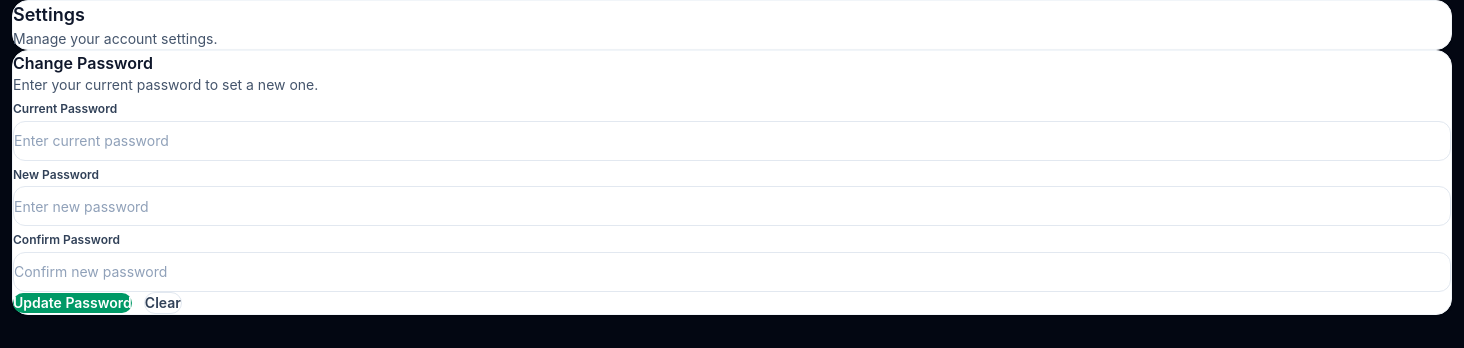
it: SettingsPage › validates new password differs from current
In the password field labelled "Current Password": (732, 141) [13, 121, 1451, 161], type "samepass"
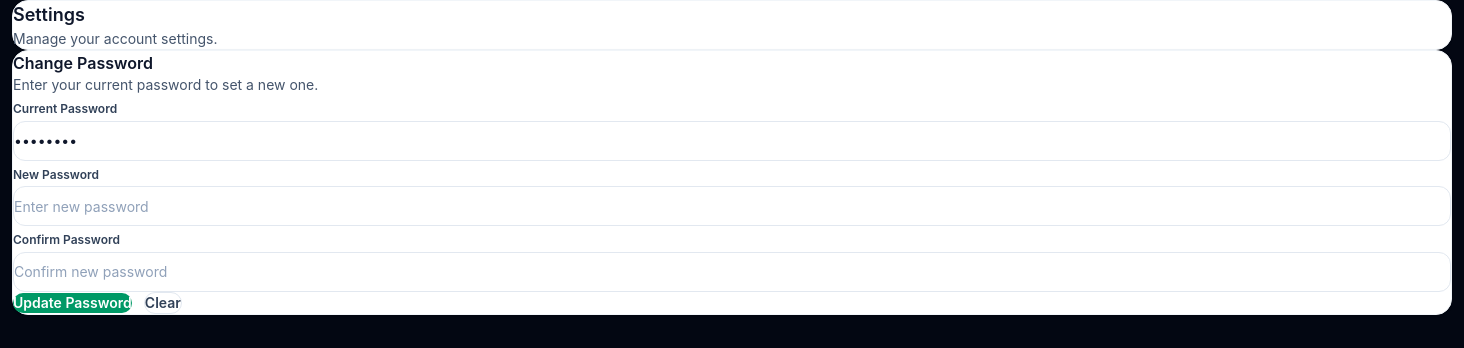
In the password field labelled "New Password": (732, 206) [13, 186, 1451, 226], type "samepass"
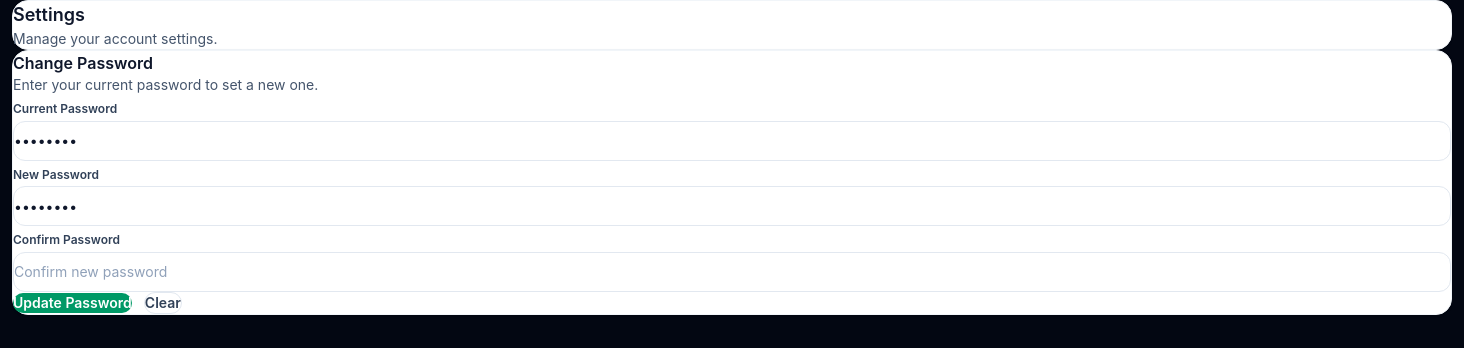
In the password field named "Confirm new password": (732, 272) [13, 252, 1451, 292], type "samepass"
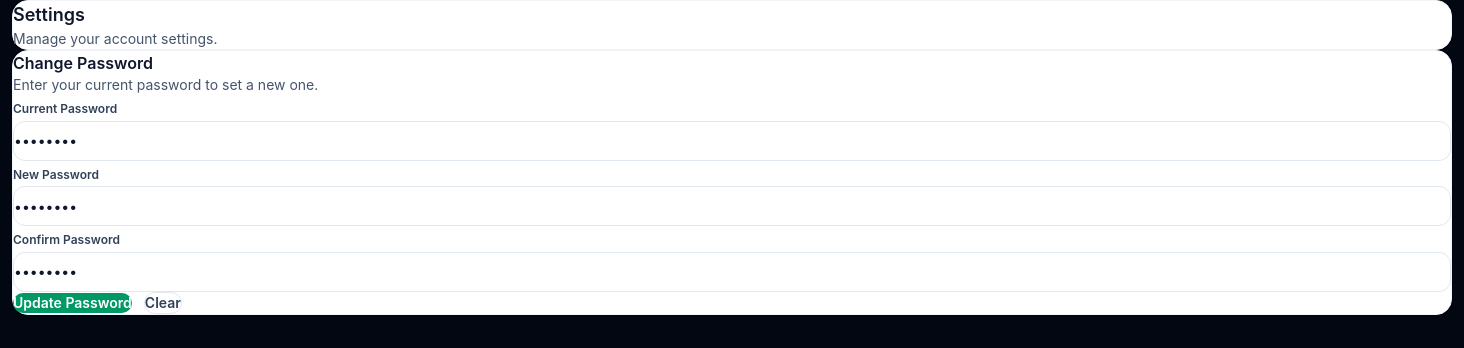
Click the button "Update Password": (72, 303) [13, 293, 132, 313]
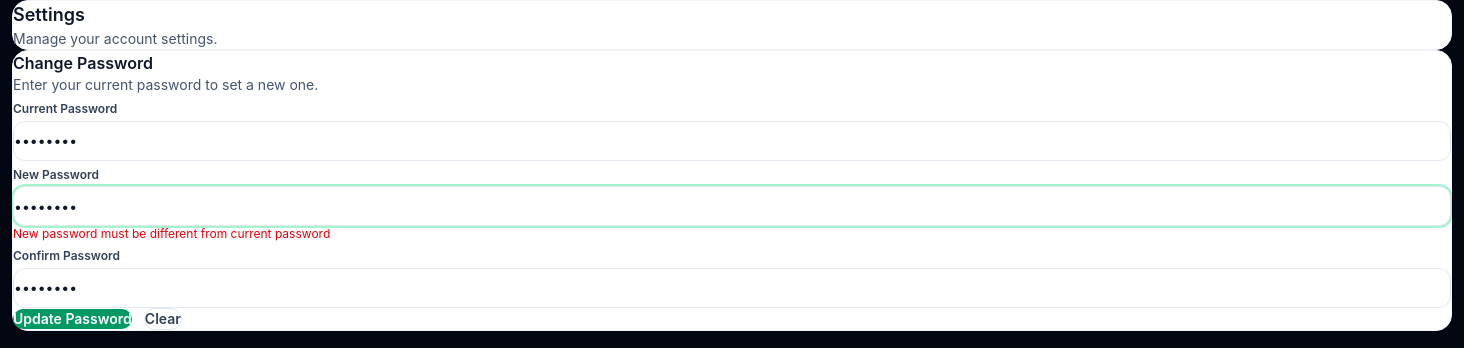
Expected: the text "New password must be different from current password" is shown, [13, 226, 330, 241]
